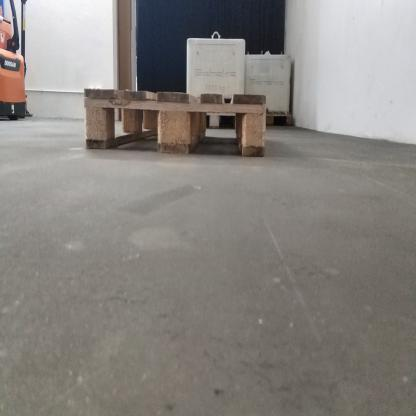BoxFace: (84, 86, 269, 157)
